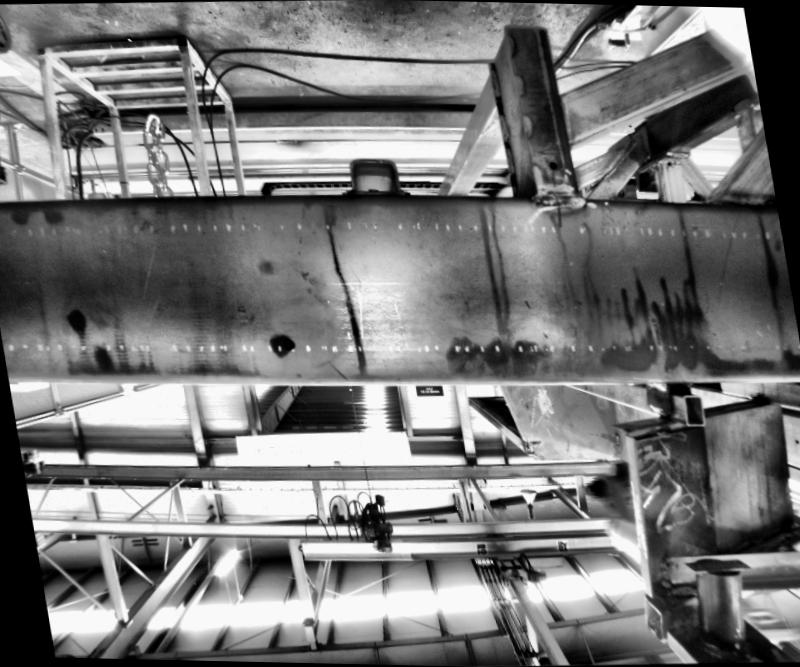bracket: (334, 156, 414, 202)
hole: (283, 337, 294, 349), (548, 162, 558, 170)
welding: (530, 186, 582, 208)
